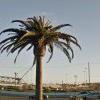Palm tree: (8, 5, 69, 99)
